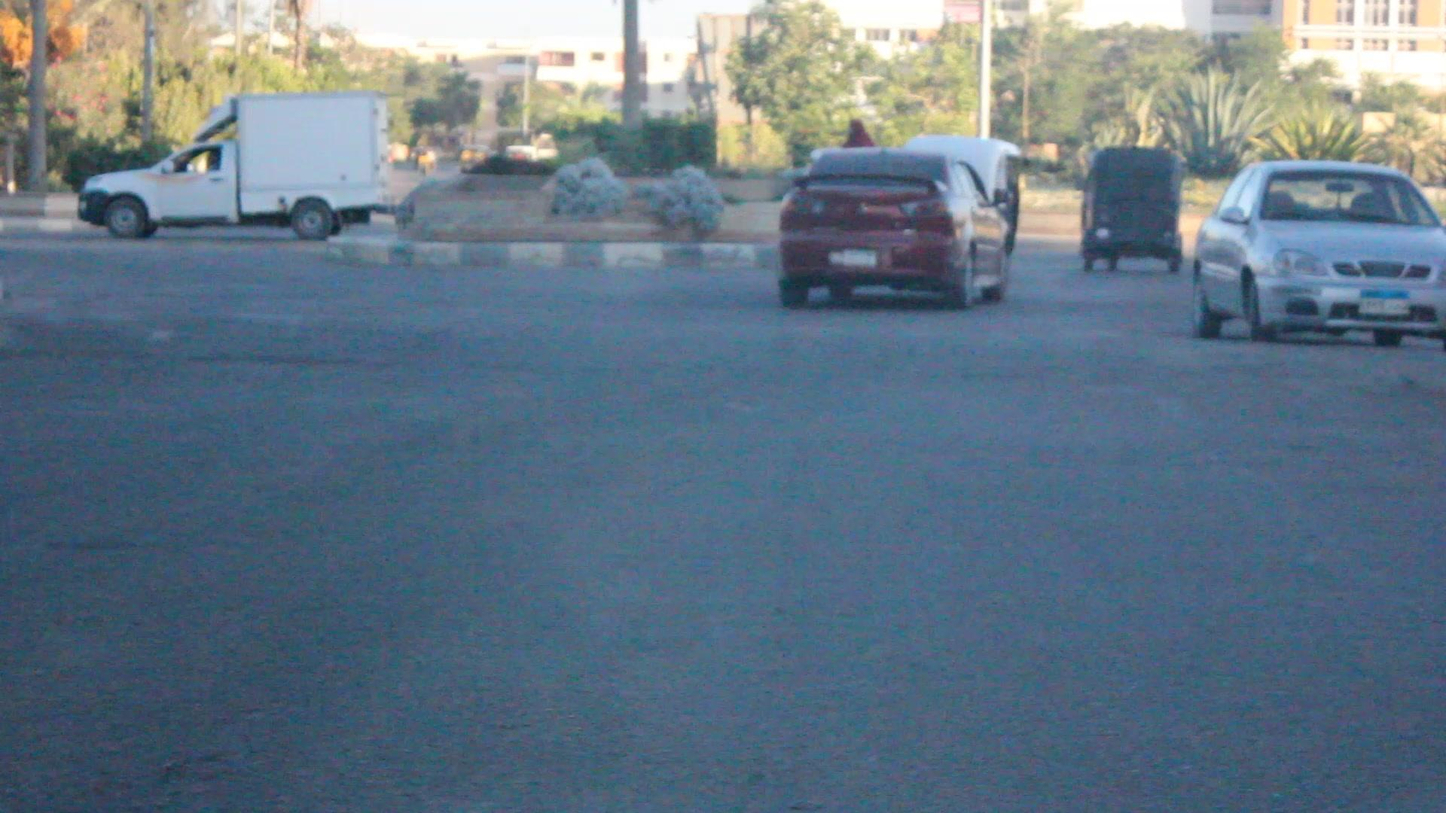Bump: (6, 296, 1445, 411)
